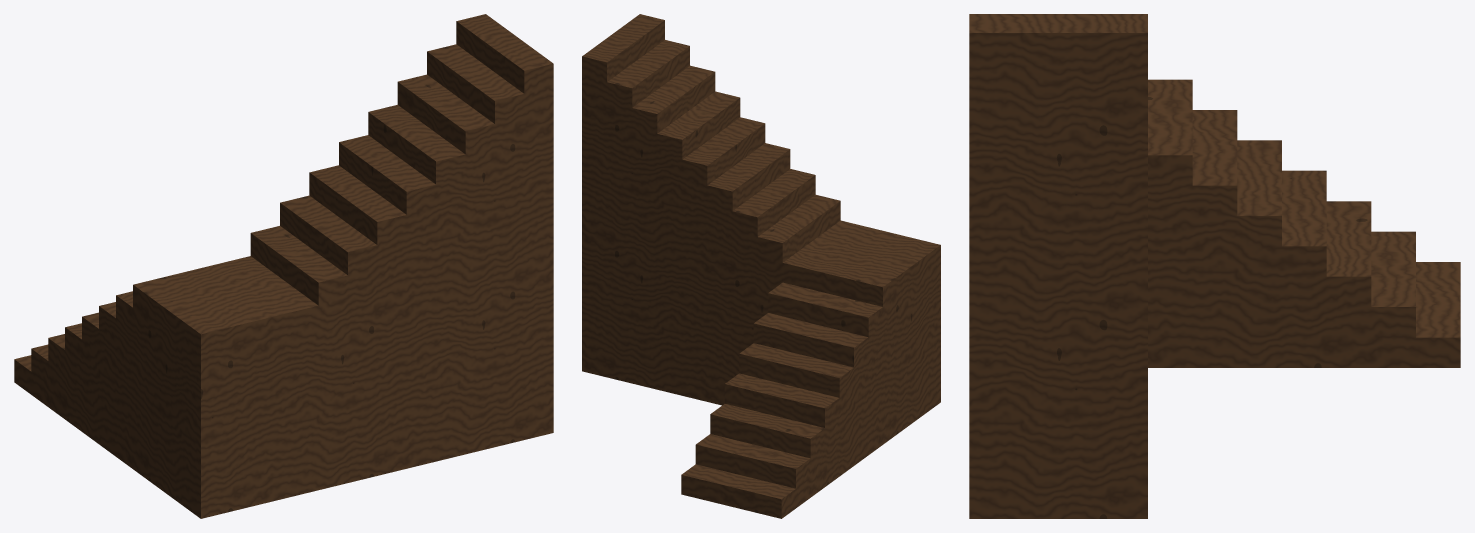
File: stair_quarter_turn_3m.glb
The picture shows the model from 3 angles, left to right: view 1: azimuth 30°, elevation 25°; view 2: azimuth 150°, elevation 25°; view 3: azimuth 270°, elevation 25°; orthographic projection. The views are drawn at different scales.
Visible parts, largest first — view 1: turn_landing, run_b_05, run_b_02, run_b_06, run_b_03, run_b_01, run_b_07, run_b_08, run_b_04, run_a_01, run_a_02, run_a_03 (+3 smaller); view 2: run_b_02, run_b_01, run_b_03, turn_landing, run_b_05, run_b_04, run_a_01, run_a_02, run_a_03, run_a_04, run_b_06, run_b_07 (+4 smaller); view 3: run_b_01, run_b_03, run_b_06, run_a_01, run_a_02, run_b_02, run_b_04, run_a_03, run_b_08, run_a_04, run_b_07, run_a_05 (+3 smaller).
Part boxes in pixels (x1,y1,x2,y2): turn_landing: [133, 256, 318, 518]; run_b_05: [368, 105, 553, 461]; run_b_02: [280, 195, 553, 482]; run_b_06: [397, 74, 553, 454]; run_b_03: [309, 165, 553, 475]; run_b_01: [250, 226, 553, 489]; run_b_07: [427, 44, 553, 446]; run_b_08: [456, 14, 553, 439]; run_b_04: [339, 135, 553, 467]; run_a_01: [14, 355, 132, 468]; run_a_02: [31, 344, 132, 445]; run_a_03: [48, 334, 132, 422]; run_b_02: [582, 169, 815, 404]; run_b_01: [582, 194, 840, 404]; run_b_03: [582, 143, 790, 405]; turn_landing: [782, 220, 940, 444]; run_b_05: [582, 91, 740, 394]; run_b_04: [582, 117, 765, 400]; run_a_01: [681, 425, 882, 518]; run_a_02: [695, 405, 882, 488]; run_a_03: [710, 386, 882, 458]; run_a_04: [724, 366, 882, 427]; run_b_06: [582, 65, 715, 372]; run_b_07: [582, 40, 689, 371]; run_b_01: [969, 245, 1147, 518]; run_b_03: [969, 184, 1147, 518]; run_b_06: [969, 93, 1147, 518]; run_a_01: [1148, 262, 1460, 367]; run_a_02: [1148, 231, 1415, 337]; run_b_02: [969, 215, 1147, 518]; run_b_04: [969, 154, 1147, 518]; run_a_03: [1148, 201, 1371, 306]; run_b_08: [969, 14, 1147, 517]; run_a_04: [1148, 170, 1326, 276]; run_b_07: [969, 63, 1147, 518]; run_a_05: [1148, 140, 1281, 246].
Bounding box in the file's own units: 3 × 3 × 2.75.
Materials: 1 (1 with a texture image).
